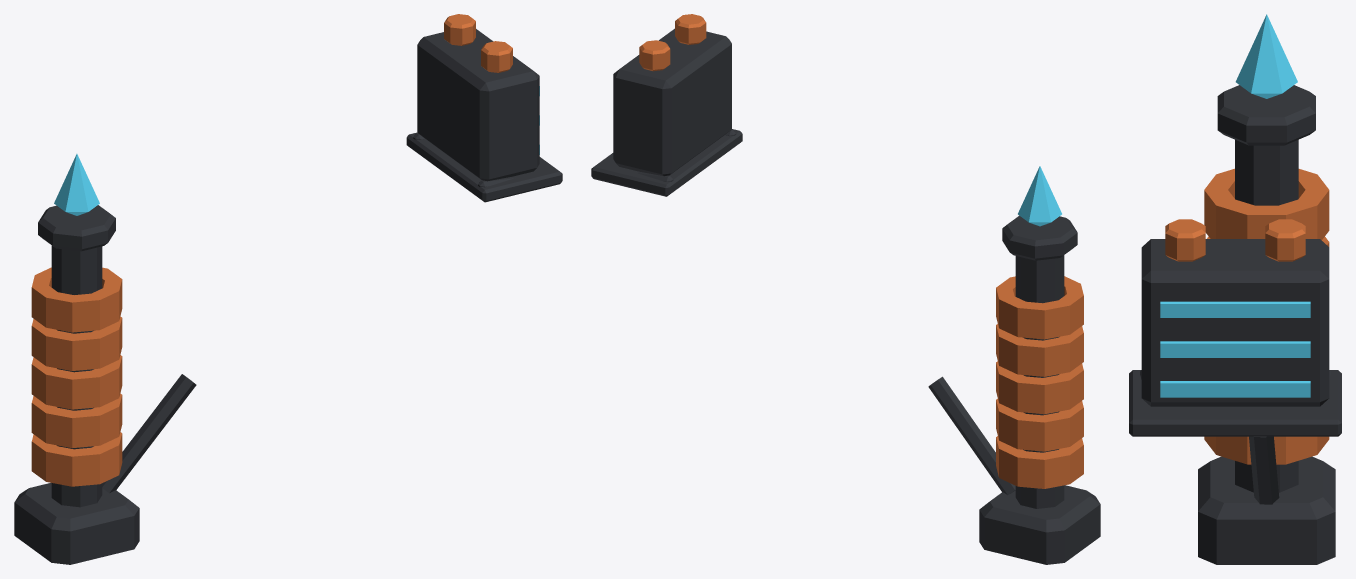
The model's file is SniperDressA2.obj.
3 renders of one model, left to right at view 1: azimuth 30°, elevation 25°; view 2: azimuth 150°, elevation 25°; view 3: azimuth 270°, elevation 25°, orthographic. The views are drawn at different scales.
Visible parts, largest first — view 1: SniperDressA2; view 2: SniperDressA2; view 3: SniperDressA2.
Boxes of the visible parts, box(x1,y1,x2,y2) form: SniperDressA2: box(14, 14, 562, 564); SniperDressA2: box(591, 14, 1100, 564); SniperDressA2: box(1129, 14, 1341, 564).
Size of the model in its own units: 1.2 by 1 by 0.34.
